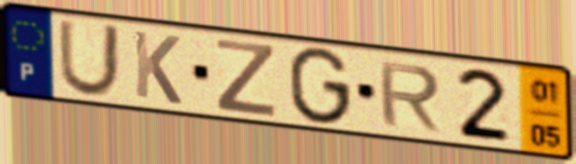2: (452, 67, 515, 147)
G: (287, 45, 354, 128)
K: (130, 27, 185, 108)
R: (376, 59, 444, 134)
U: (56, 18, 124, 100)
Z: (213, 36, 278, 120)
